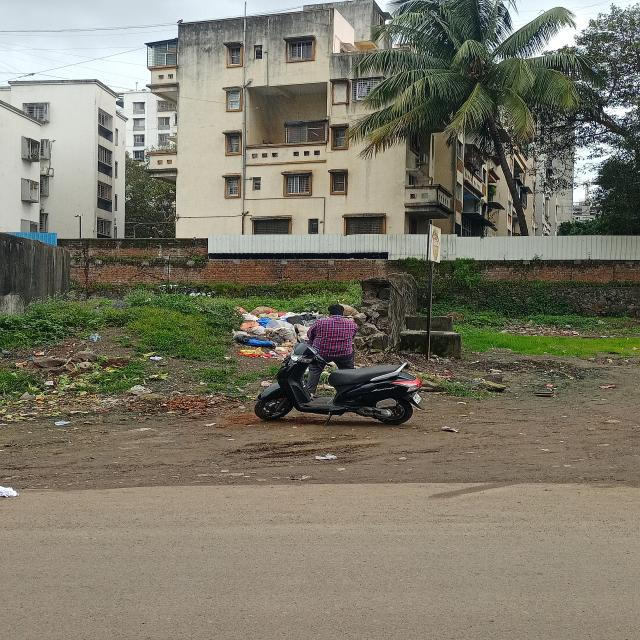garbage: (238, 307, 308, 355)
